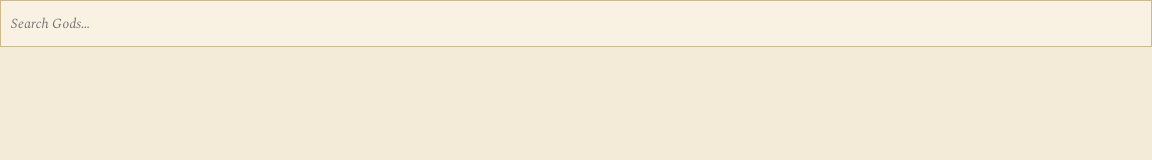
WikilinkListField candidates › offers only folios in the target folder
Step 1. Click the dropdown named "Allies" → (576, 24), box 11,8 -> 1141,39
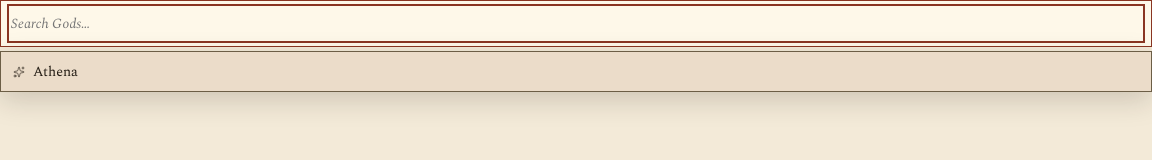
Expected: the options read "Athena", in this order, 1,52 -> 1151,91
